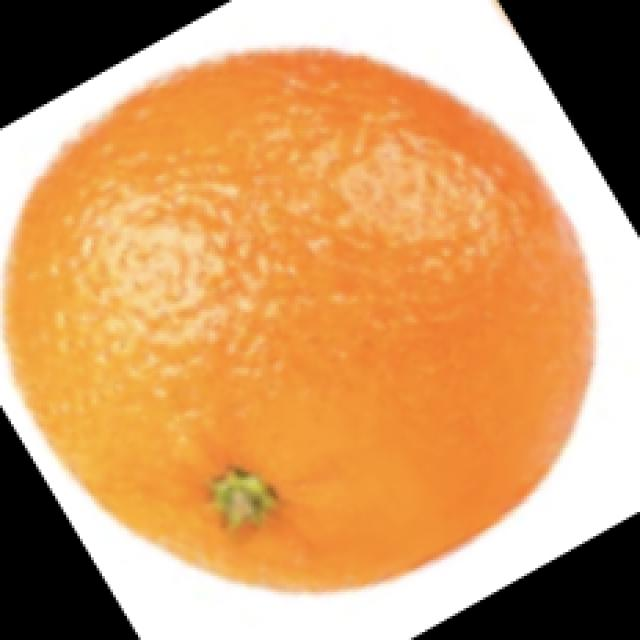fresh: (0, 37, 596, 595)
